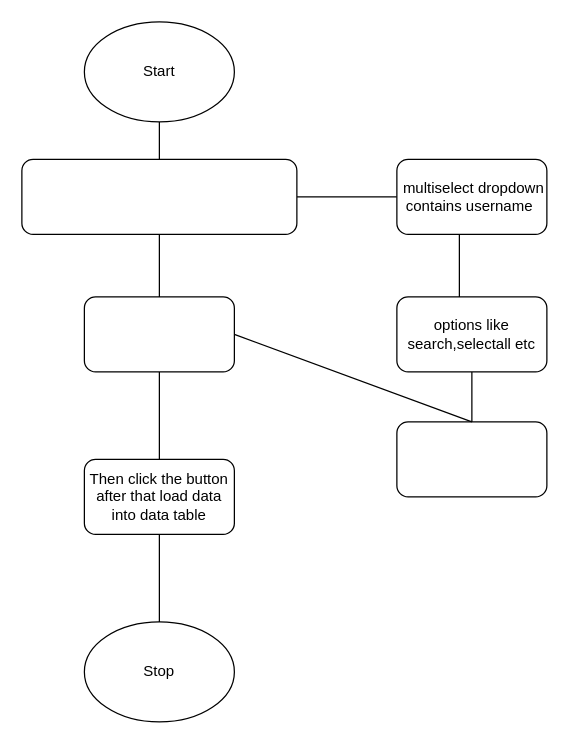
The diagram is 569 pixels wide and 744 high, and some of its shapes have lost their labels. Each missing label, with the centre of its shape:
"After selecting username" belongs at [471,459].
"Create a webpage contains muliselect dropdown,daterangepicker,button" belongs at [159,196].
"Select the date range using date range picker" belongs at [158,334].
